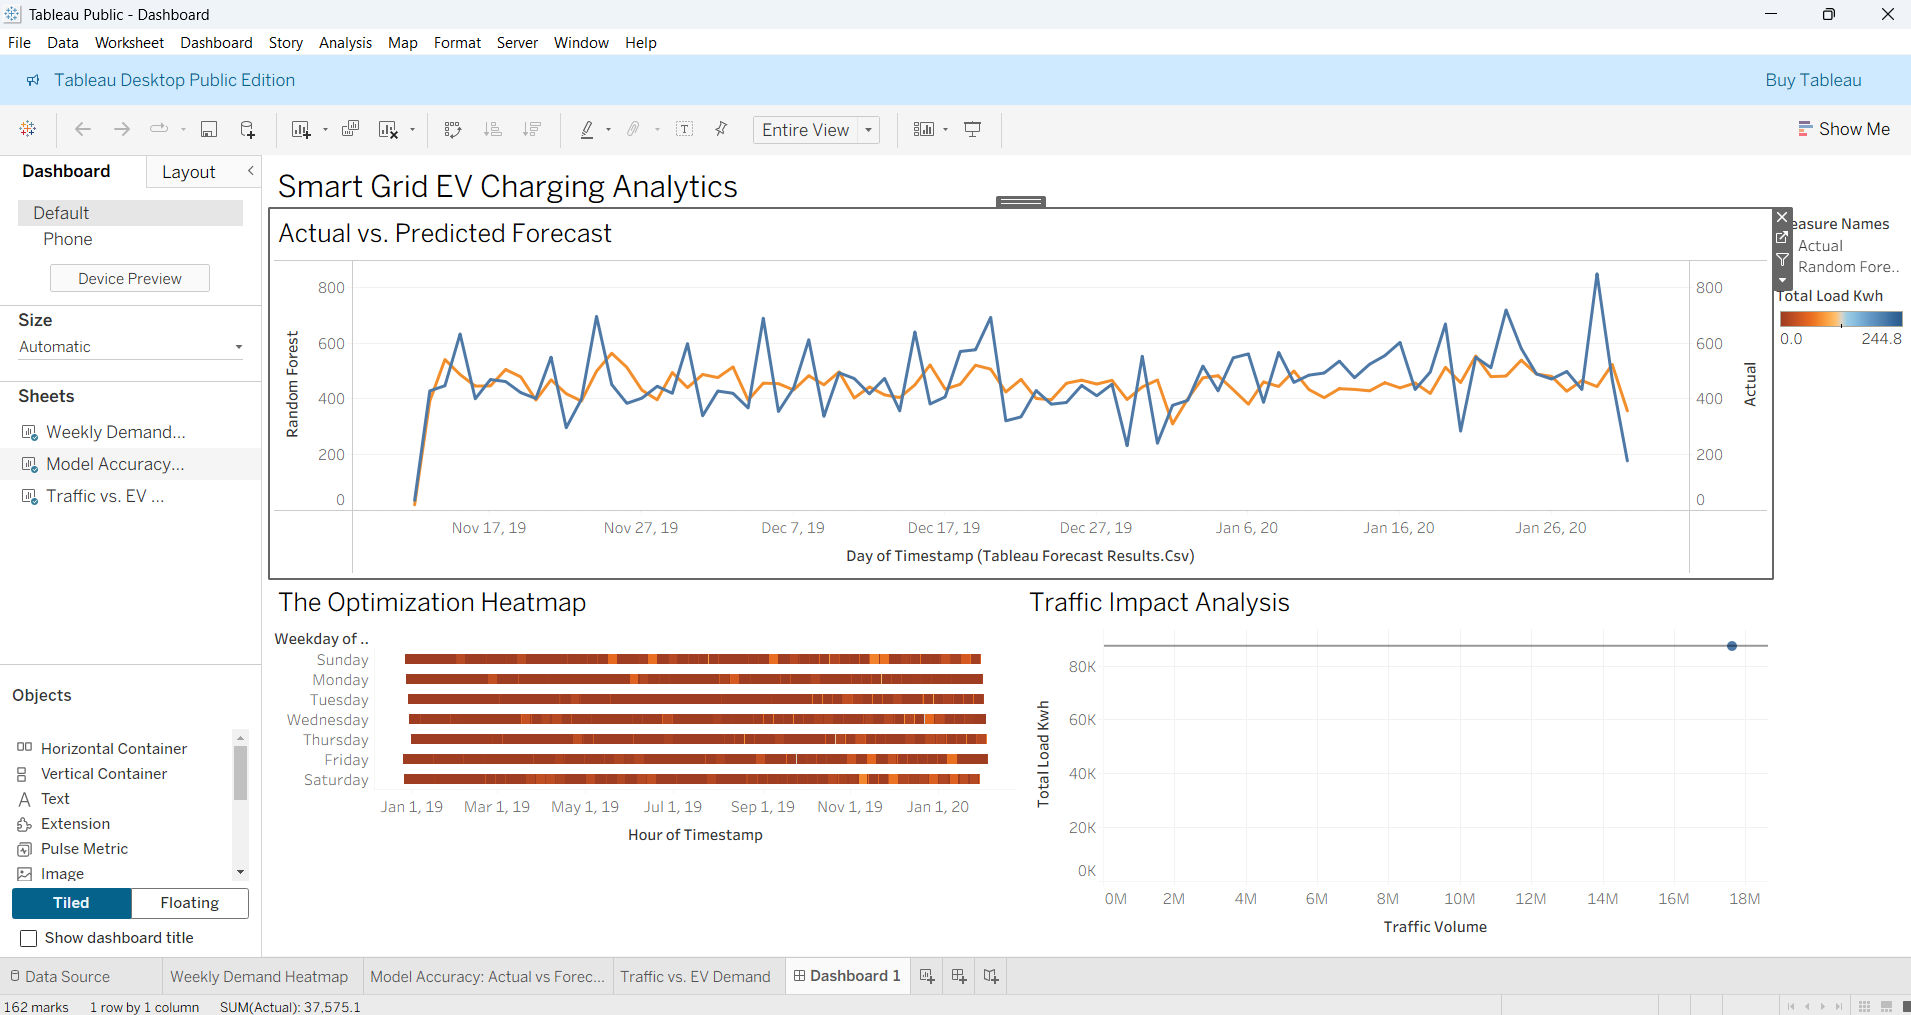

The dashboard page shown, as its layout file describes it:
{"tool":"tableau","page":{"name":"Dashboard 1","canvas":[1000,1000],"units":"permille","ordinal":0},"visuals":[{"type":"title","box":[5.1,10,989.8,57.4]},{"type":"worksheet","title":"Model Accuracy: Actual vs Forecast","mark":"Automatic","rows":["Random Forest","Actual"],"cols":["timestamp (tableau_forecast_results.csv)"],"box":[5.1,67.4,900.8,461.2]},{"type":"legend","title":"Model Accuracy: Actual vs Forecast","param":"[federated.0xisk6u1ueqx9o169pocp1fr9hox].[:Measure Names]","box":[905.9,67.4,89,89.9]},{"type":"legend","title":"Weekly Demand Heatmap","param":"[federated.0xisk6u1ueqx9o169pocp1fr9hox].[sum:total_load_kwh:qk]","box":[905.9,157.3,89,91.1]},{"type":"worksheet","title":"Weekly Demand Heatmap","mark":"Square","rows":["timestamp"],"cols":["timestamp"],"box":[5.1,528.7,450.3,461.3]},{"type":"worksheet","title":"Traffic vs. EV Demand","mark":"Circle","rows":["total_load_kwh"],"cols":["traffic_volume"],"box":[455.5,528.7,450.4,461.3]}]}

Visuals, with their boxes on the dashboard's canvas, which has no fixed pixel size, in thousandths of its width and height (x1, y1, x2, y2). These are canvas units, not pixel positions in the 1911x1015 screenshot, which may show the page scaled, cropped or inside an application window:
title: (5, 10, 995, 67)
"Model Accuracy: Actual vs Forecast" worksheet: (5, 67, 906, 529)
"Model Accuracy: Actual vs Forecast" legend: (906, 67, 995, 157)
"Weekly Demand Heatmap" legend: (906, 157, 995, 248)
"Weekly Demand Heatmap" worksheet (Square marks): (5, 529, 455, 990)
"Traffic vs. EV Demand" worksheet (Circle marks): (456, 529, 906, 990)
